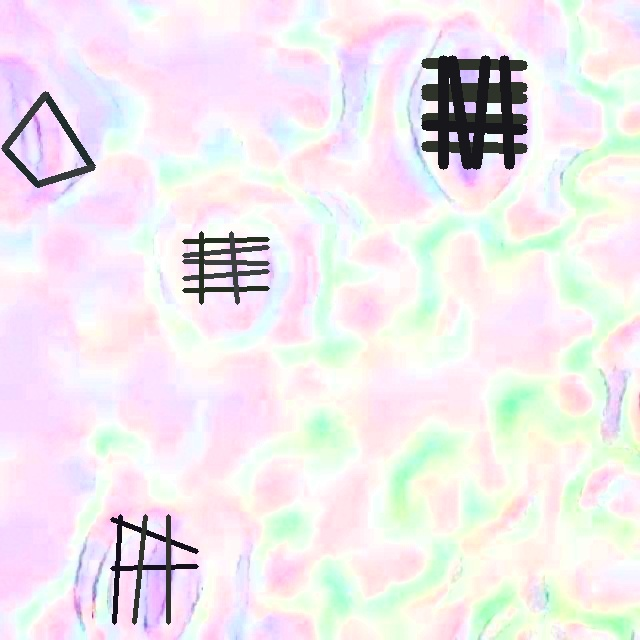close: (182, 231, 269, 304)
open: (421, 56, 526, 168), (110, 515, 197, 624), (1, 91, 95, 187)
